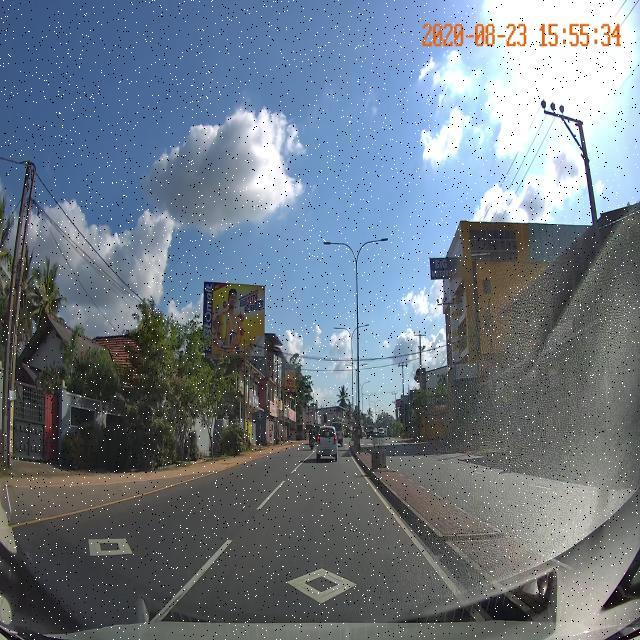diamond: (165, 565, 484, 616)
